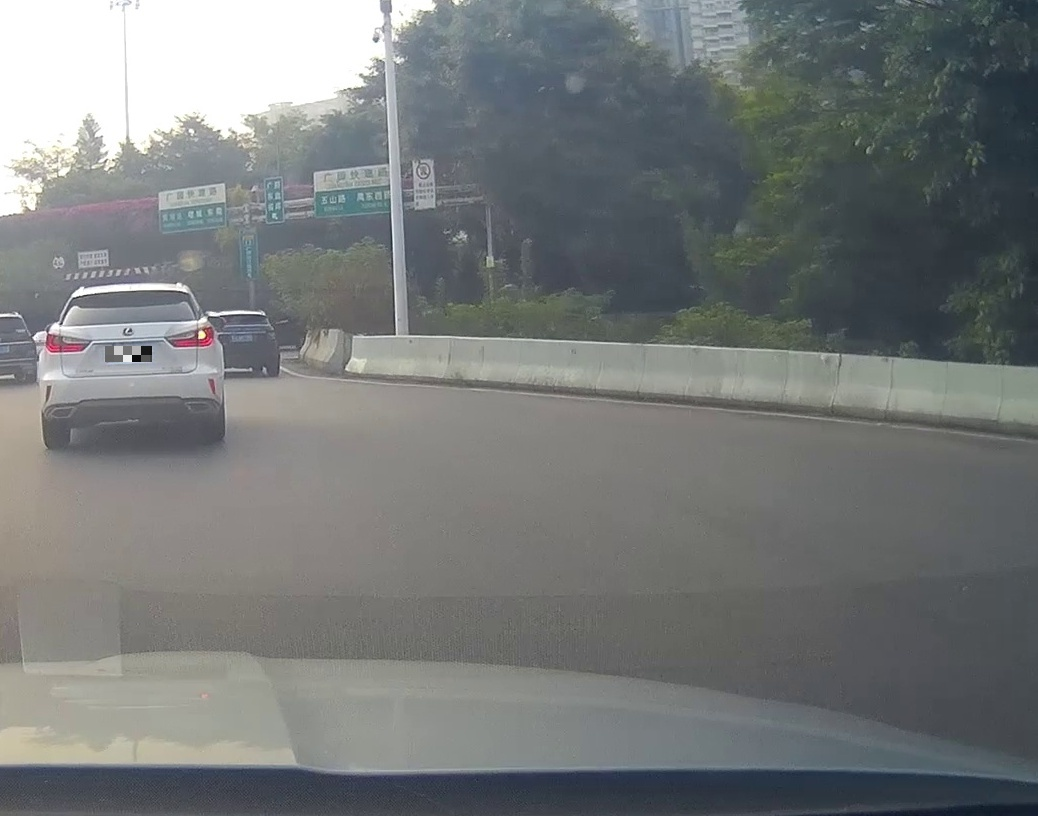L_light: (45, 333, 92, 353)
R_light: (164, 326, 215, 348)
T_light: (116, 291, 139, 296)
day-right: (39, 283, 224, 448)
plate_1: (105, 346, 152, 362)
